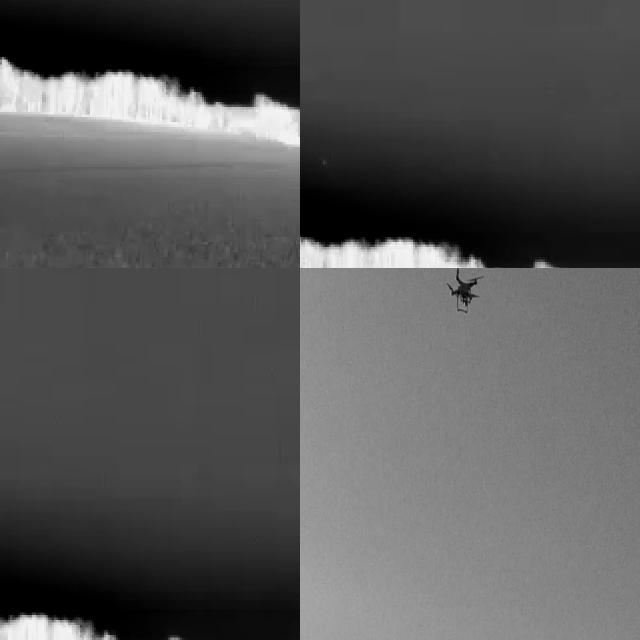0: (307, 150, 343, 184)
drone: (444, 268, 484, 316)
